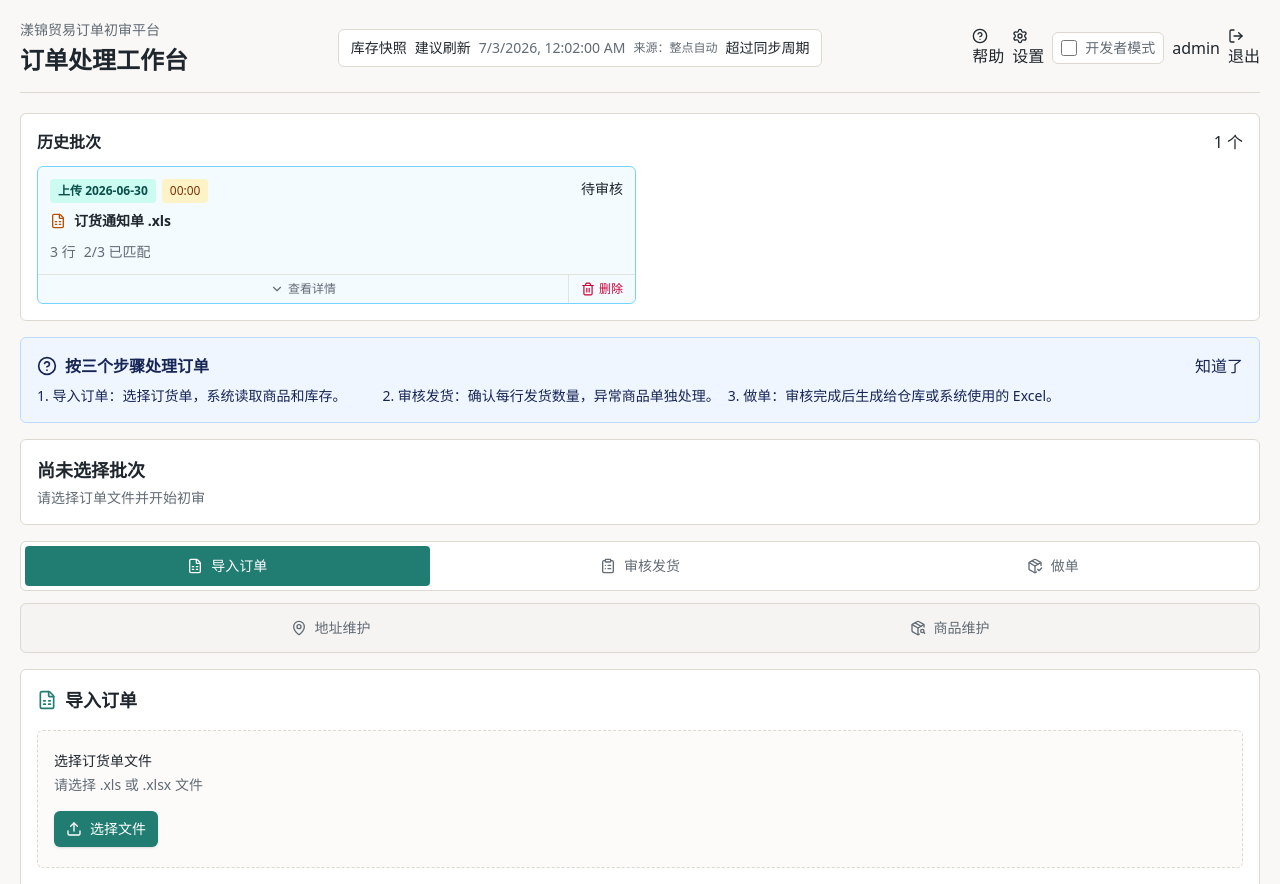
Test: App › shows an error instead of crashing when review lines fail to load
This screenshot has width=1280, height=884.
What coordinates should you click on to do the following:
click the button "订货通知单 .xls"
I would click on:
 (103, 191)
Its box is [38,167,635,274].
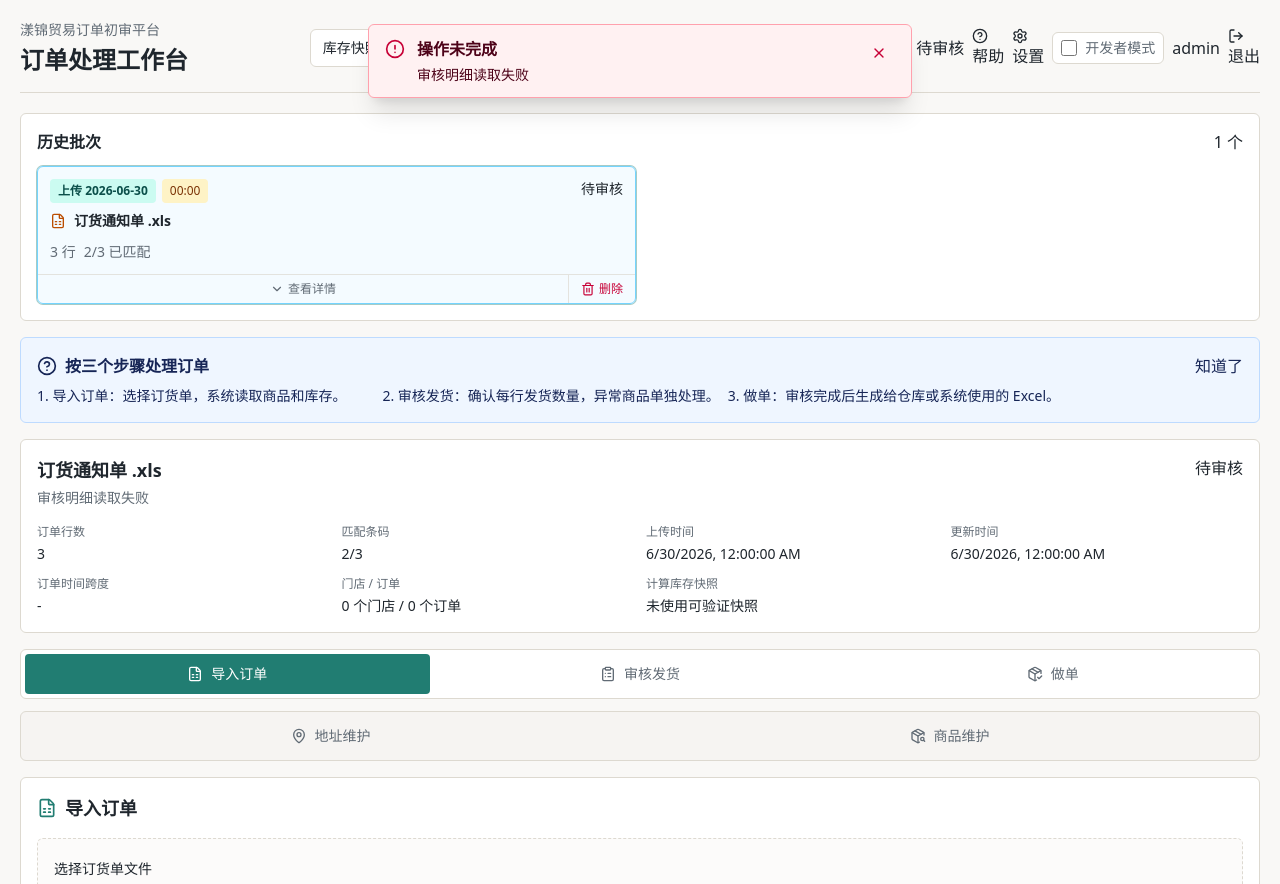
Check: the text "审核明细读取失败" below "操作未完成" is shown, box [417,65,529,84]
